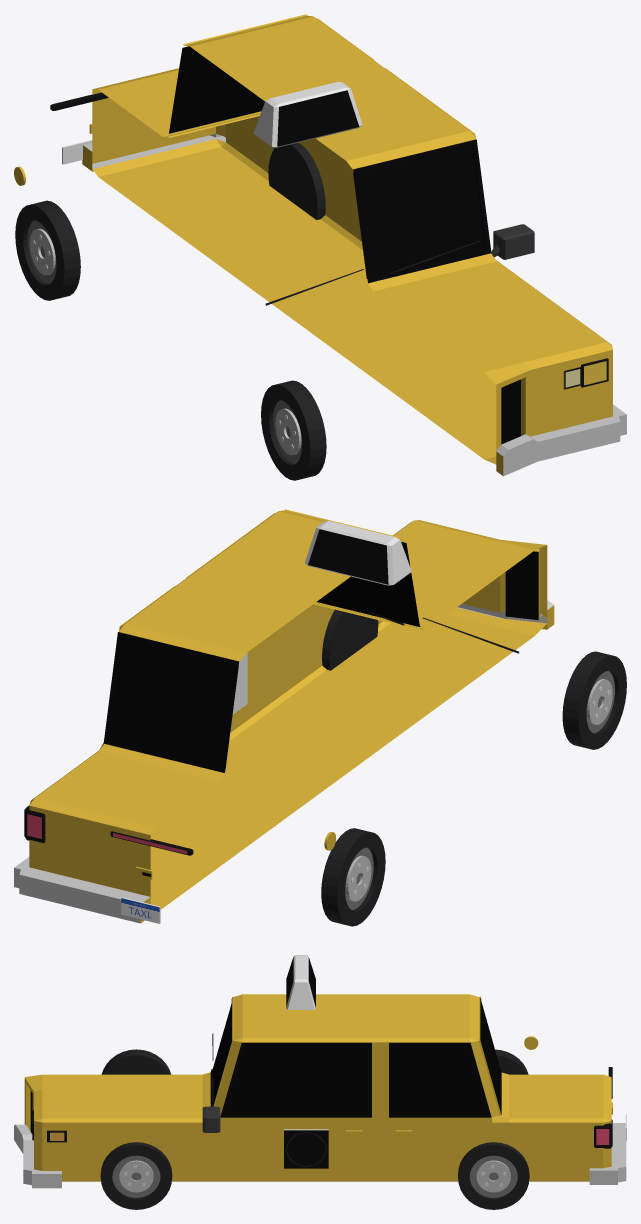
The model's file is Taxi.gltf.
3 renders of one model, top to bottom at view 1: azimuth 30°, elevation 25°; view 2: azimuth 150°, elevation 25°; view 3: azimuth 270°, elevation 25°, orthographic. The views are drawn at different scales.
Parts seen in each view (by area): view 1: Car, TireRearRight, TireFrontRight, TopSign, TireRearLeft; view 2: Car, TireRearRight, TireFrontRight, TopSign, TireFrontLeft, LicensePlate, Logo; view 3: Car, TireFrontLeft, TireRearLeft, Logo, TopSign, TireFrontRight, TireRearRight.
Part boxes in pixels (left/top/right/bottom): Car: left=14, top=14, right=626, bottom=476; TireRearRight: left=15, top=200, right=80, bottom=300; TireFrontRight: left=261, top=380, right=326, bottom=480; TopSign: left=253, top=82, right=362, bottom=147; TireRearLeft: left=268, top=143, right=325, bottom=219; Car: left=14, top=509, right=554, bottom=923; TireRearRight: left=321, top=828, right=385, bottom=926; TireFrontRight: left=562, top=651, right=626, bottom=749; TopSign: left=305, top=521, right=411, bottom=585; TireFrontLeft: left=322, top=609, right=378, bottom=670; LicensePlate: left=121, top=897, right=160, bottom=923; Logo: left=232, top=652, right=247, bottom=714; Car: left=14, top=994, right=626, bottom=1188; TireFrontLeft: left=100, top=1142, right=172, bottom=1209; TireRearLeft: left=458, top=1142, right=529, bottom=1209; Logo: left=284, top=1129, right=328, bottom=1168; TopSign: left=286, top=955, right=315, bottom=1009; TireFrontRight: left=101, top=1049, right=170, bottom=1074; TireRearRight: left=495, top=1049, right=528, bottom=1074.
Bounding box in the file's own units: 2.84 × 2.46 × 7.01.
Materials: 23 (3 with a texture image).
